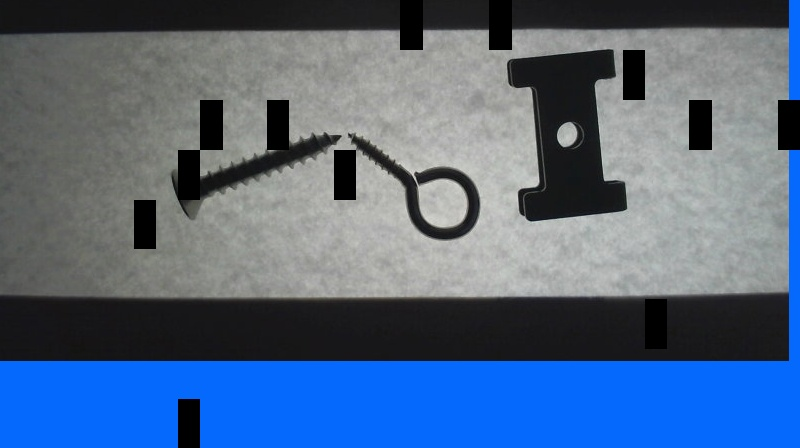O001: (342, 131, 481, 241)
O002: (503, 48, 628, 221)
S001: (167, 133, 341, 222)
